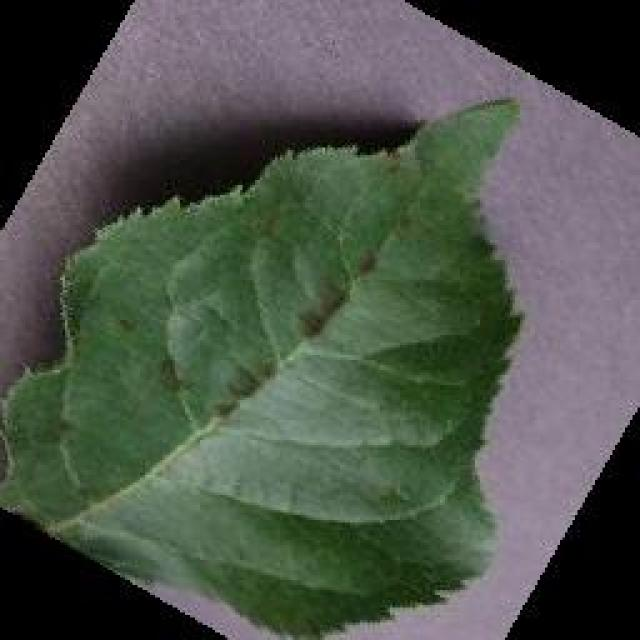apple scab disease: (0, 92, 528, 638)
